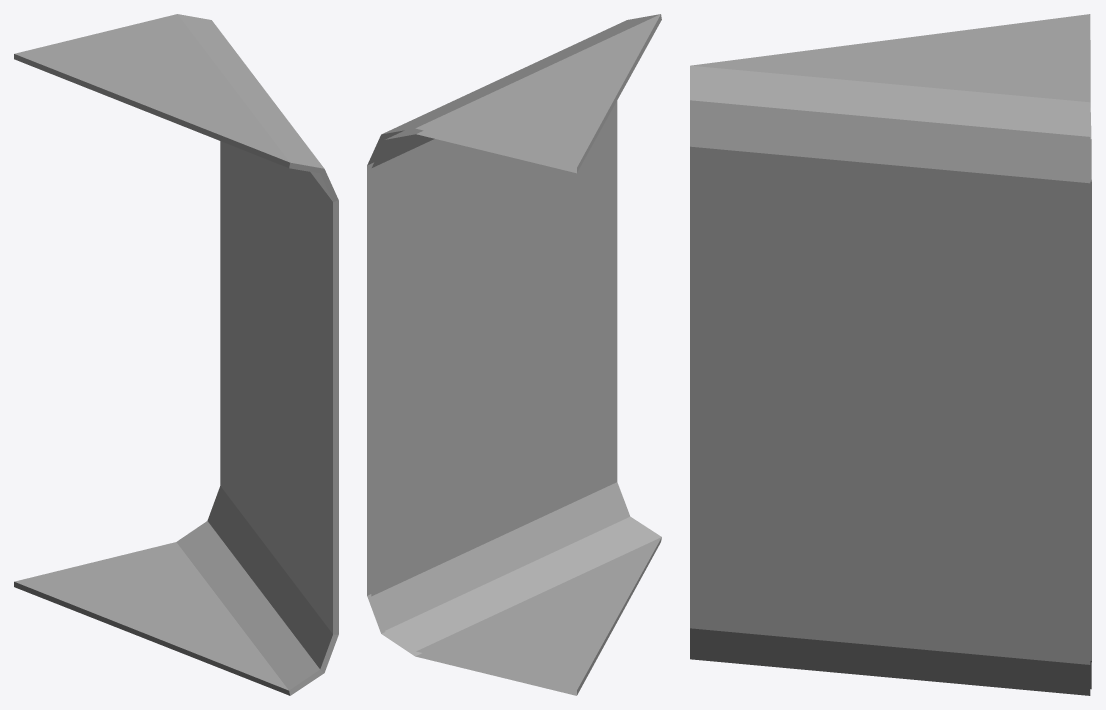
File: SliceOfBiceWindow.glb
3 views of the same model, side by side, from view 1: azimuth 30°, elevation 25°; view 2: azimuth 150°, elevation 25°; view 3: azimuth 270°, elevation 25° (orthographic). The views are drawn at different scales.
Parts seen in each view (by area): view 1: SliceOfBiceWindow; view 2: SliceOfBiceWindow; view 3: SliceOfBiceWindow.
Boxes of the visible parts, x1,y1,x2,y2 form: SliceOfBiceWindow: (14, 14, 338, 695); SliceOfBiceWindow: (367, 14, 661, 695); SliceOfBiceWindow: (690, 14, 1091, 695).
Bounding box in the file's own units: 0.4065 × 0.9776 × 0.6021.
1 material, 1 textured.
